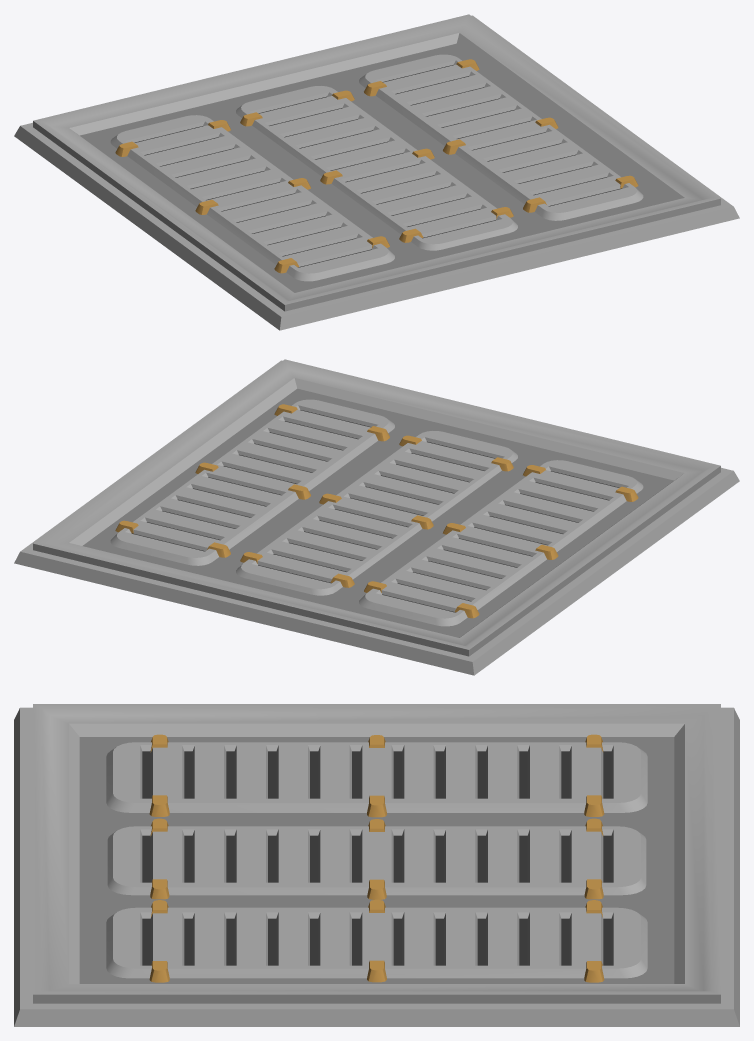
File: RoofTile_Vents.gltf
The picture shows the model from 3 angles, top to bottom: view 1: azimuth 30°, elevation 25°; view 2: azimuth 150°, elevation 25°; view 3: azimuth 270°, elevation 25°; orthographic projection. The views are drawn at different scales.
Parts seen in each view (by area): view 1: RoofTile_Vents; view 2: RoofTile_Vents; view 3: RoofTile_Vents.
Part boxes in pixels (x1,y1,x2,y2): RoofTile_Vents: (14,14,739,330); RoofTile_Vents: (14,359,739,675); RoofTile_Vents: (14,704,739,1026).
Size of the model in its own units: 2 by 0.0773 by 2.
